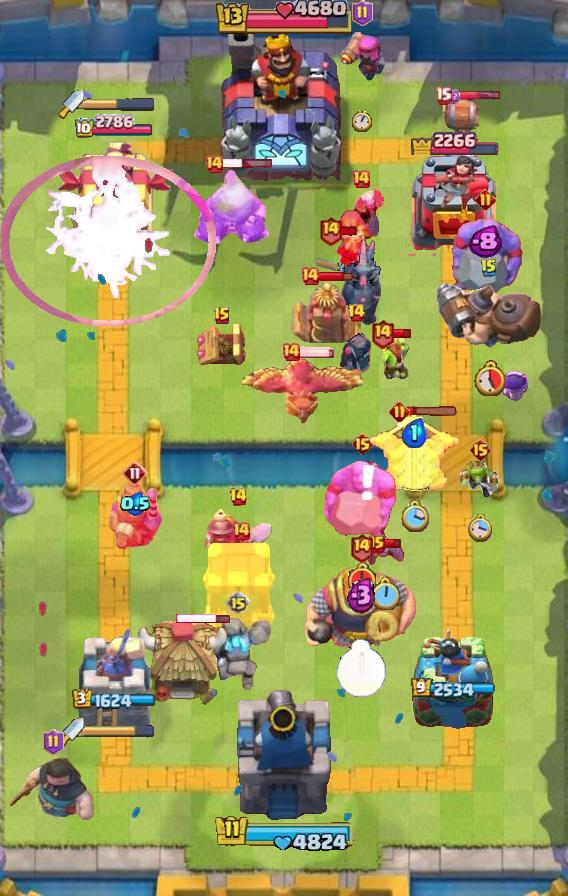archer-queen: (322, 459, 402, 553), (444, 215, 526, 303)
bandit: (203, 503, 273, 573)
bar: (54, 142, 173, 256), (75, 623, 153, 731)
barbarian-barrel: (366, 540, 406, 568)
barbarian-evolution: (1, 155, 216, 327)
battle-ram: (338, 326, 374, 380)
bomb: (202, 542, 280, 630)
clock: (210, 813, 358, 855), (213, 0, 355, 38)
electro-spirit: (468, 225, 502, 259), (347, 576, 377, 614), (401, 418, 427, 448), (121, 492, 152, 516), (448, 89, 460, 104)
elixir: (336, 639, 388, 698), (346, 562, 378, 597), (370, 577, 401, 613), (475, 360, 505, 396), (399, 499, 428, 533), (467, 514, 492, 543), (352, 110, 372, 132)
emote: (177, 611, 232, 624), (449, 91, 501, 102), (221, 159, 273, 170), (407, 406, 459, 417), (298, 346, 336, 358), (318, 270, 353, 282), (340, 225, 359, 237), (393, 329, 412, 340), (383, 539, 402, 550)
giant-skeleton: (303, 564, 419, 654)
goblin: (501, 370, 528, 404)
goblin-brawler: (291, 278, 361, 346), (195, 319, 249, 369)
golemite: (309, 236, 381, 330)
king-tower: (219, 21, 349, 181), (232, 686, 336, 826)
king-tower-bar: (84, 97, 156, 111), (84, 725, 154, 739)
knight: (429, 97, 479, 151)
lava-pup: (365, 412, 463, 494)
mother-witch: (238, 357, 366, 429)
prince: (134, 618, 228, 708)
queen-tower: (408, 152, 498, 256), (411, 627, 495, 731)
ram-rider: (107, 477, 163, 551)
rascal-boy: (336, 188, 386, 274)
royal-guardian: (193, 169, 269, 249)
royal-hog: (7, 753, 99, 825)
selected: (409, 125, 500, 155), (74, 114, 154, 140), (412, 678, 497, 700), (72, 688, 156, 710)
text: (318, 214, 343, 245), (369, 319, 394, 350), (350, 532, 375, 563), (123, 461, 147, 485), (226, 591, 250, 615), (351, 0, 373, 26), (351, 432, 374, 456), (468, 438, 491, 462), (43, 729, 64, 755), (476, 189, 497, 210), (389, 401, 410, 422), (204, 154, 224, 174), (351, 169, 371, 189), (300, 266, 320, 286), (281, 342, 301, 362), (228, 487, 248, 507), (231, 521, 251, 541), (347, 303, 366, 323), (480, 258, 498, 278), (213, 306, 231, 326), (435, 87, 453, 105), (369, 535, 385, 553)
tombstone: (337, 28, 387, 82)
valkyrie-evolution: (201, 615, 275, 697)
wizard: (433, 280, 545, 350)
zap: (459, 457, 501, 501), (381, 330, 411, 380)
